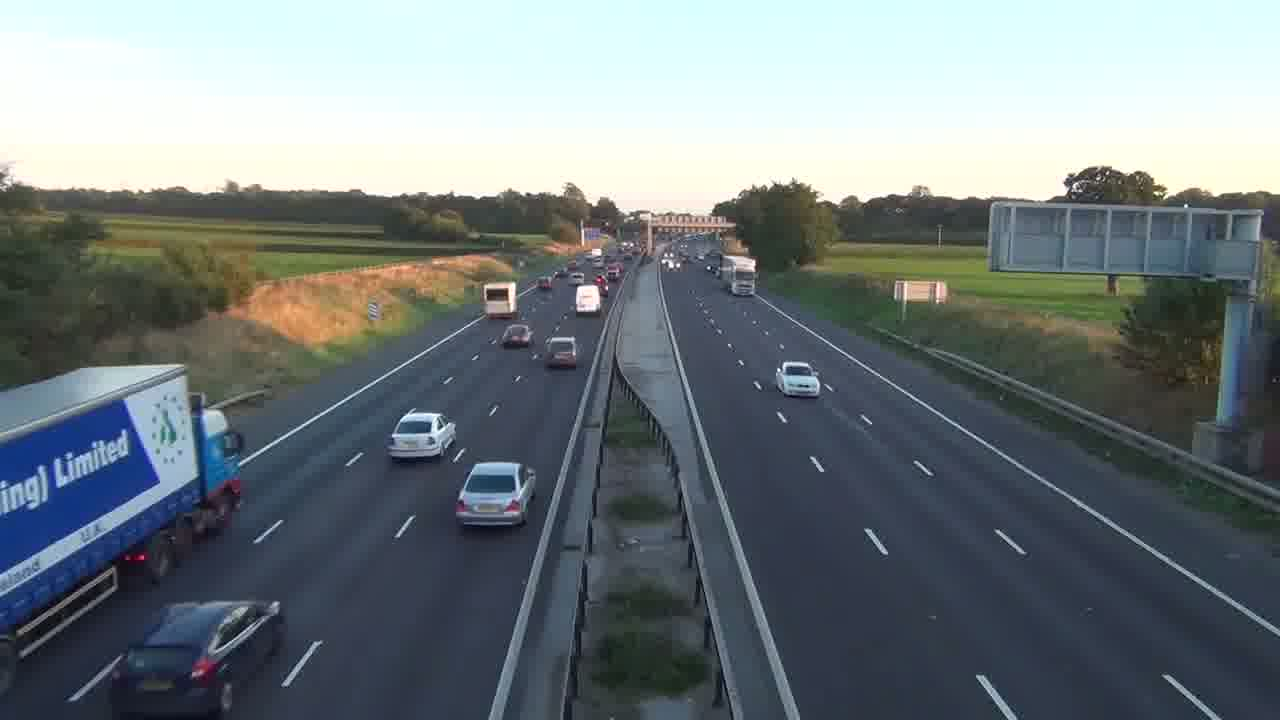car: (110, 599, 285, 716), (454, 461, 537, 530), (386, 410, 457, 462), (776, 360, 821, 398), (543, 336, 578, 370), (500, 323, 532, 349)
truck: (1, 363, 246, 644), (482, 282, 517, 320), (574, 283, 601, 315)
